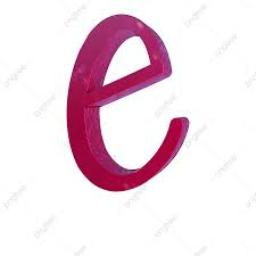e: (66, 10, 190, 196)
